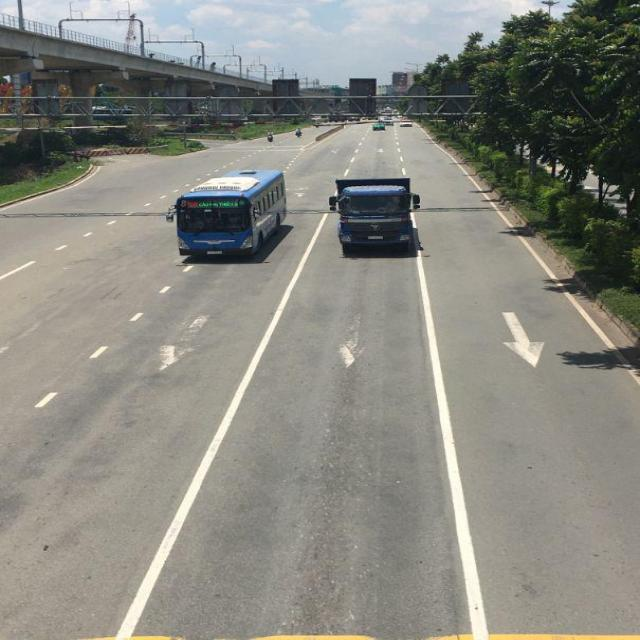bus: (175, 168, 288, 262)
car: (370, 119, 384, 128)
truck: (336, 178, 422, 258)
